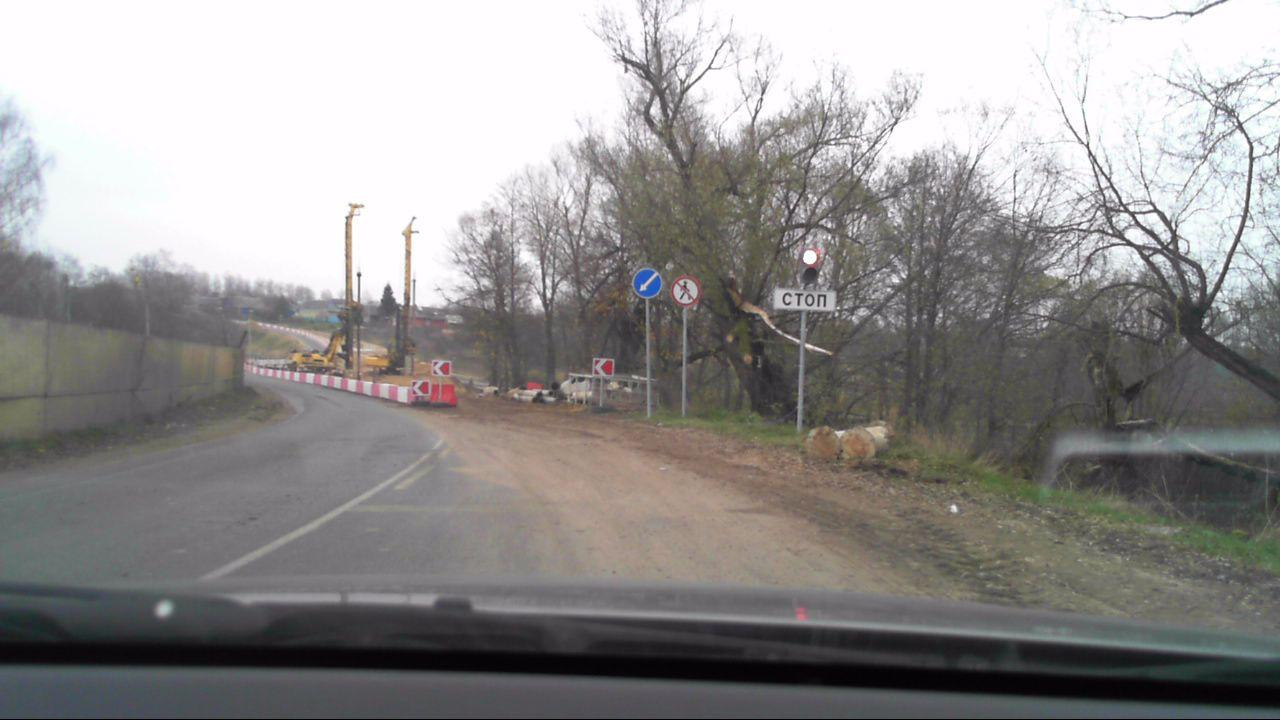1_34_2: (592, 356, 616, 377), (430, 358, 454, 378), (411, 379, 431, 397)
3_10: (673, 276, 702, 306)
4_2_2: (631, 265, 664, 301)
6_16: (771, 286, 838, 314)
